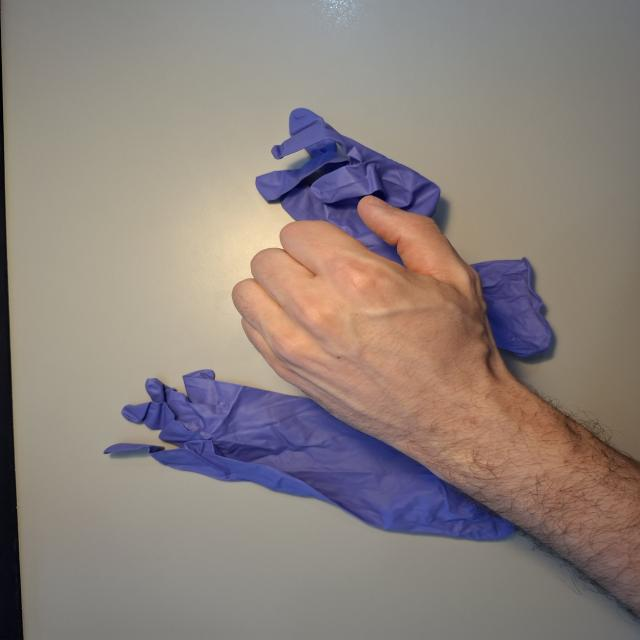glove_off: (226, 190, 535, 444)
